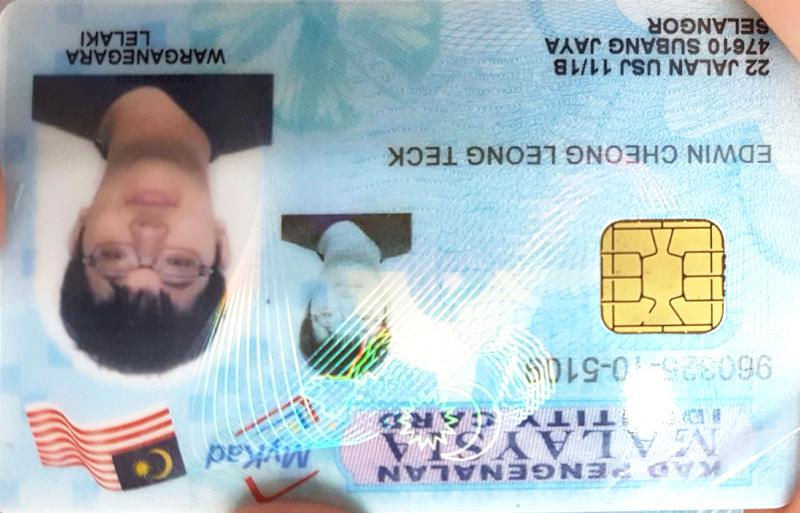hologram: (413, 181, 592, 326)
